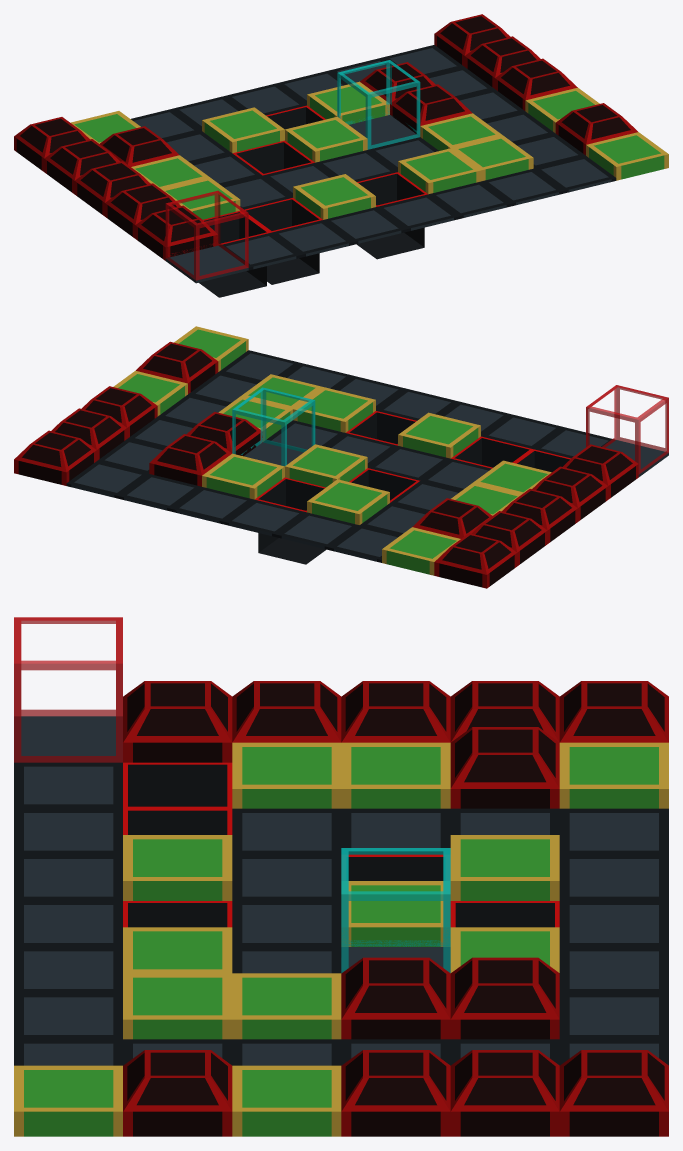
File: Test_Level_1.obj
3 renders of one model, top to bottom at view 1: azimuth 30°, elevation 25°; view 2: azimuth 150°, elevation 25°; view 3: azimuth 270°, elevation 25°, orthographic. The views are drawn at different scales.
Visible parts, largest first — view 1: Ground, Block_High.003, Block_High.006, Ground.001, Ground.002, Ground.003, Start, Ground.004, Finish, Block_High, Hole.001, Highground.010 (+19 smaller); view 2: Block_High.003, Ground, Ground.002, Block_High.006, Ground.001, Ground.004, Ground.003, Start, Finish, Block_High.002, Hole.003, Highground (+19 smaller); view 3: Ground, Block_High.006, Ground.002, Block_High.003, Ground.004, Ground.003, Block_High.005, Ground.001, Start, Block_High.001, Block_High.002, Block_High (+19 smaller).
Boxes of the visible parts, x1,y1,x2,y2 form: Ground: (219, 156, 616, 270); Block_High.003: (14, 117, 180, 238); Block_High.006: (434, 14, 577, 110); Ground.001: (382, 45, 585, 168); Ground.002: (131, 57, 392, 140); Ground.003: (164, 131, 292, 209); Start: (165, 190, 248, 283); Ground.004: (263, 137, 438, 197); Finish: (337, 60, 420, 149); Block_High: (135, 205, 218, 260); Hole.001: (245, 198, 322, 284); Highground.010: (586, 132, 668, 180); Block_High.003: (434, 466, 608, 588); Ground: (218, 350, 615, 458); Ground.002: (119, 474, 400, 562); Block_High.006: (14, 386, 157, 485); Ground.001: (66, 372, 258, 498); Ground.004: (263, 420, 449, 480); Ground.003: (360, 458, 491, 535); Start: (586, 385, 668, 477); Finish: (232, 387, 315, 466); Block_High.002: (149, 434, 231, 486); Hole.003: (255, 477, 326, 564); Highground: (398, 412, 480, 458); Ground: (14, 762, 122, 1065); Block_High.006: (341, 1050, 668, 1136); Ground.002: (559, 808, 668, 1039); Block_High.003: (232, 681, 668, 742); Ground.004: (232, 854, 341, 973); Ground.003: (232, 808, 559, 854); Block_High.005: (123, 1050, 232, 1136); Ground.001: (123, 1039, 668, 1065); Start: (14, 617, 122, 762); Block_High.001: (341, 957, 450, 1039); Block_High.002: (450, 957, 559, 1039); Block_High: (123, 681, 232, 762).
Bounding box in the file's own units: 36 × 7.92 × 24.
